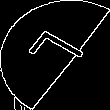L_SE: (20, 28, 90, 82)
